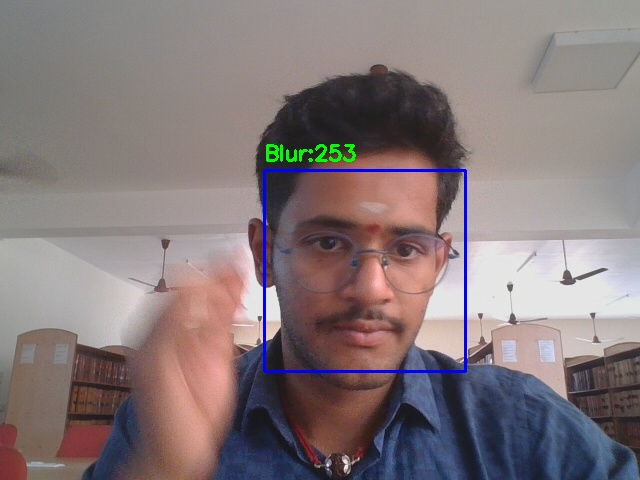real: (264, 170, 465, 371)
